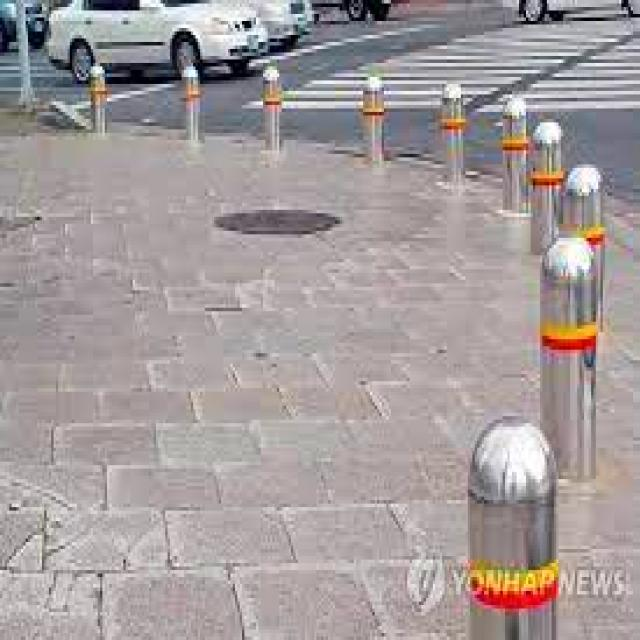bollard: (463, 409, 566, 640), (538, 234, 601, 494), (564, 156, 614, 344), (432, 76, 475, 190), (498, 88, 531, 229), (535, 111, 566, 257), (256, 56, 289, 158), (356, 69, 390, 168), (179, 57, 209, 146), (86, 52, 114, 142)
